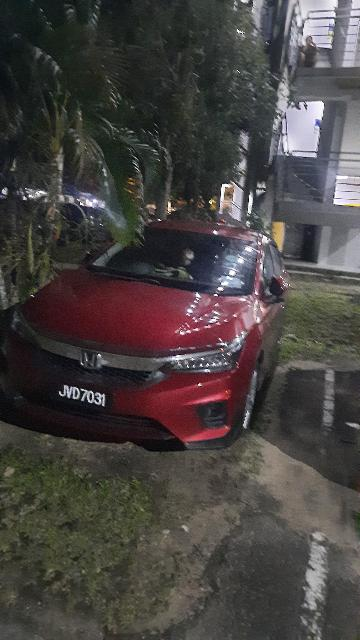License_Plate: (48, 378, 118, 413)
car: (1, 215, 291, 451)
